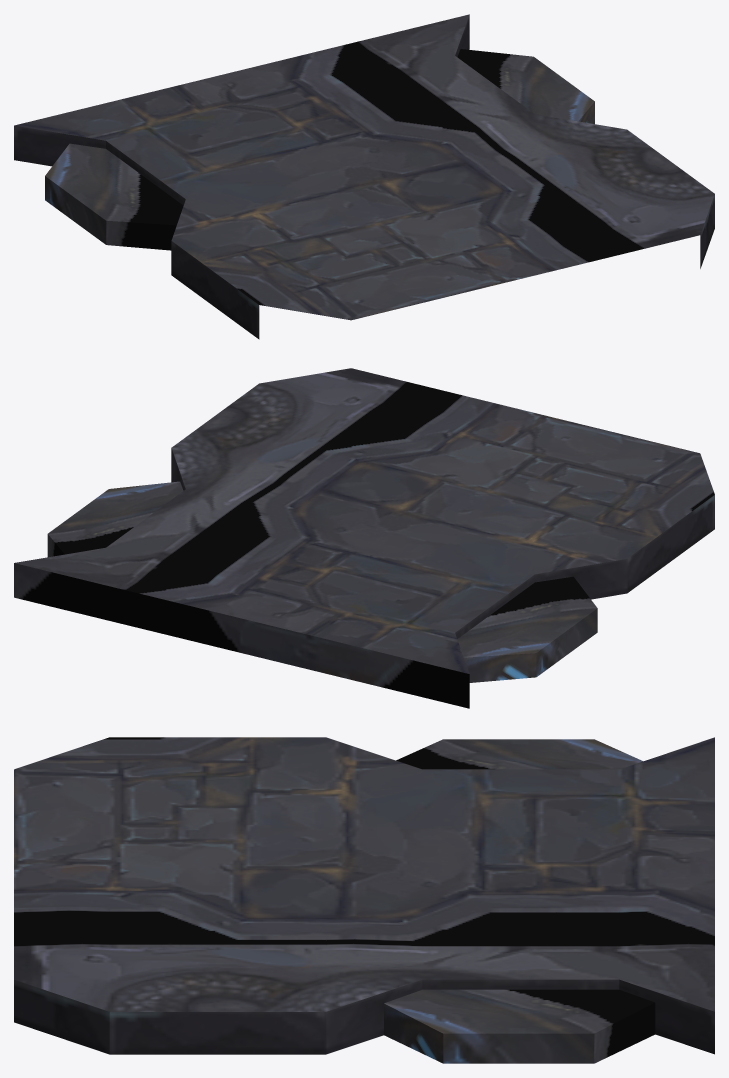
Rendered from fb_csd_zj_15_a.FBX.
3 renders of one model, top to bottom at view 1: azimuth 30°, elevation 25°; view 2: azimuth 150°, elevation 25°; view 3: azimuth 270°, elevation 25°, orthographic. The views are drawn at different scales.
Visible parts, largest first — view 1: Object001; view 2: Object001; view 3: Object001.
Boxes of the visible parts, x1=… form: Object001: x1=14, y1=14, x2=714, y2=339; Object001: x1=14, y1=368, x2=714, y2=708; Object001: x1=14, y1=737, x2=714, y2=1063.
Bounding box in the file's own units: 4.12 × 0.2789 × 4.15.
1 material, 1 textured.
